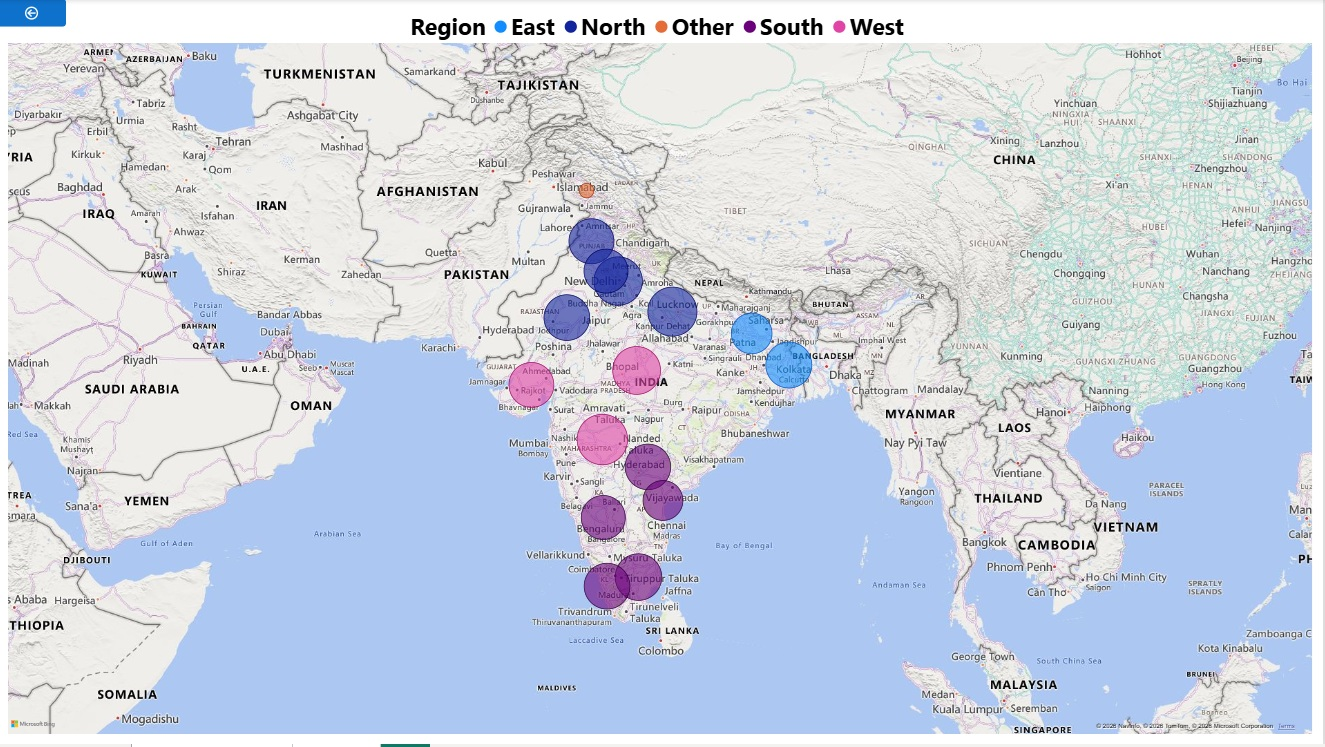

Layout of this report page (visuals, bound fields, positions):
{"tool":"powerbi","page":{"name":"Maps","canvas":[1920,1080],"ordinal":1},"visuals":[{"type":"map","title":"Sales by State with Region","fields":{"Category":["Maruti_Clean_Data.State"],"Series":["Maruti_Clean_Data.Region"],"Size":["Maruti_Clean_Data.Total Units"]},"box":[0,0,1920.1,1080.4],"z":0},{"type":"actionButton","box":[0,0,100,40],"z":1000}]}

Visuals, with their boxes on the page's 1920x1080 design canvas (x1, y1, x2, y2). These are canvas units, not pixel positions in the 1325x747 screenshot, which may show the page scaled, cropped or inside an application window:
"Sales by State with Region" map: <box>0,0,1920,1080</box>
actionButton: <box>0,0,100,40</box>
